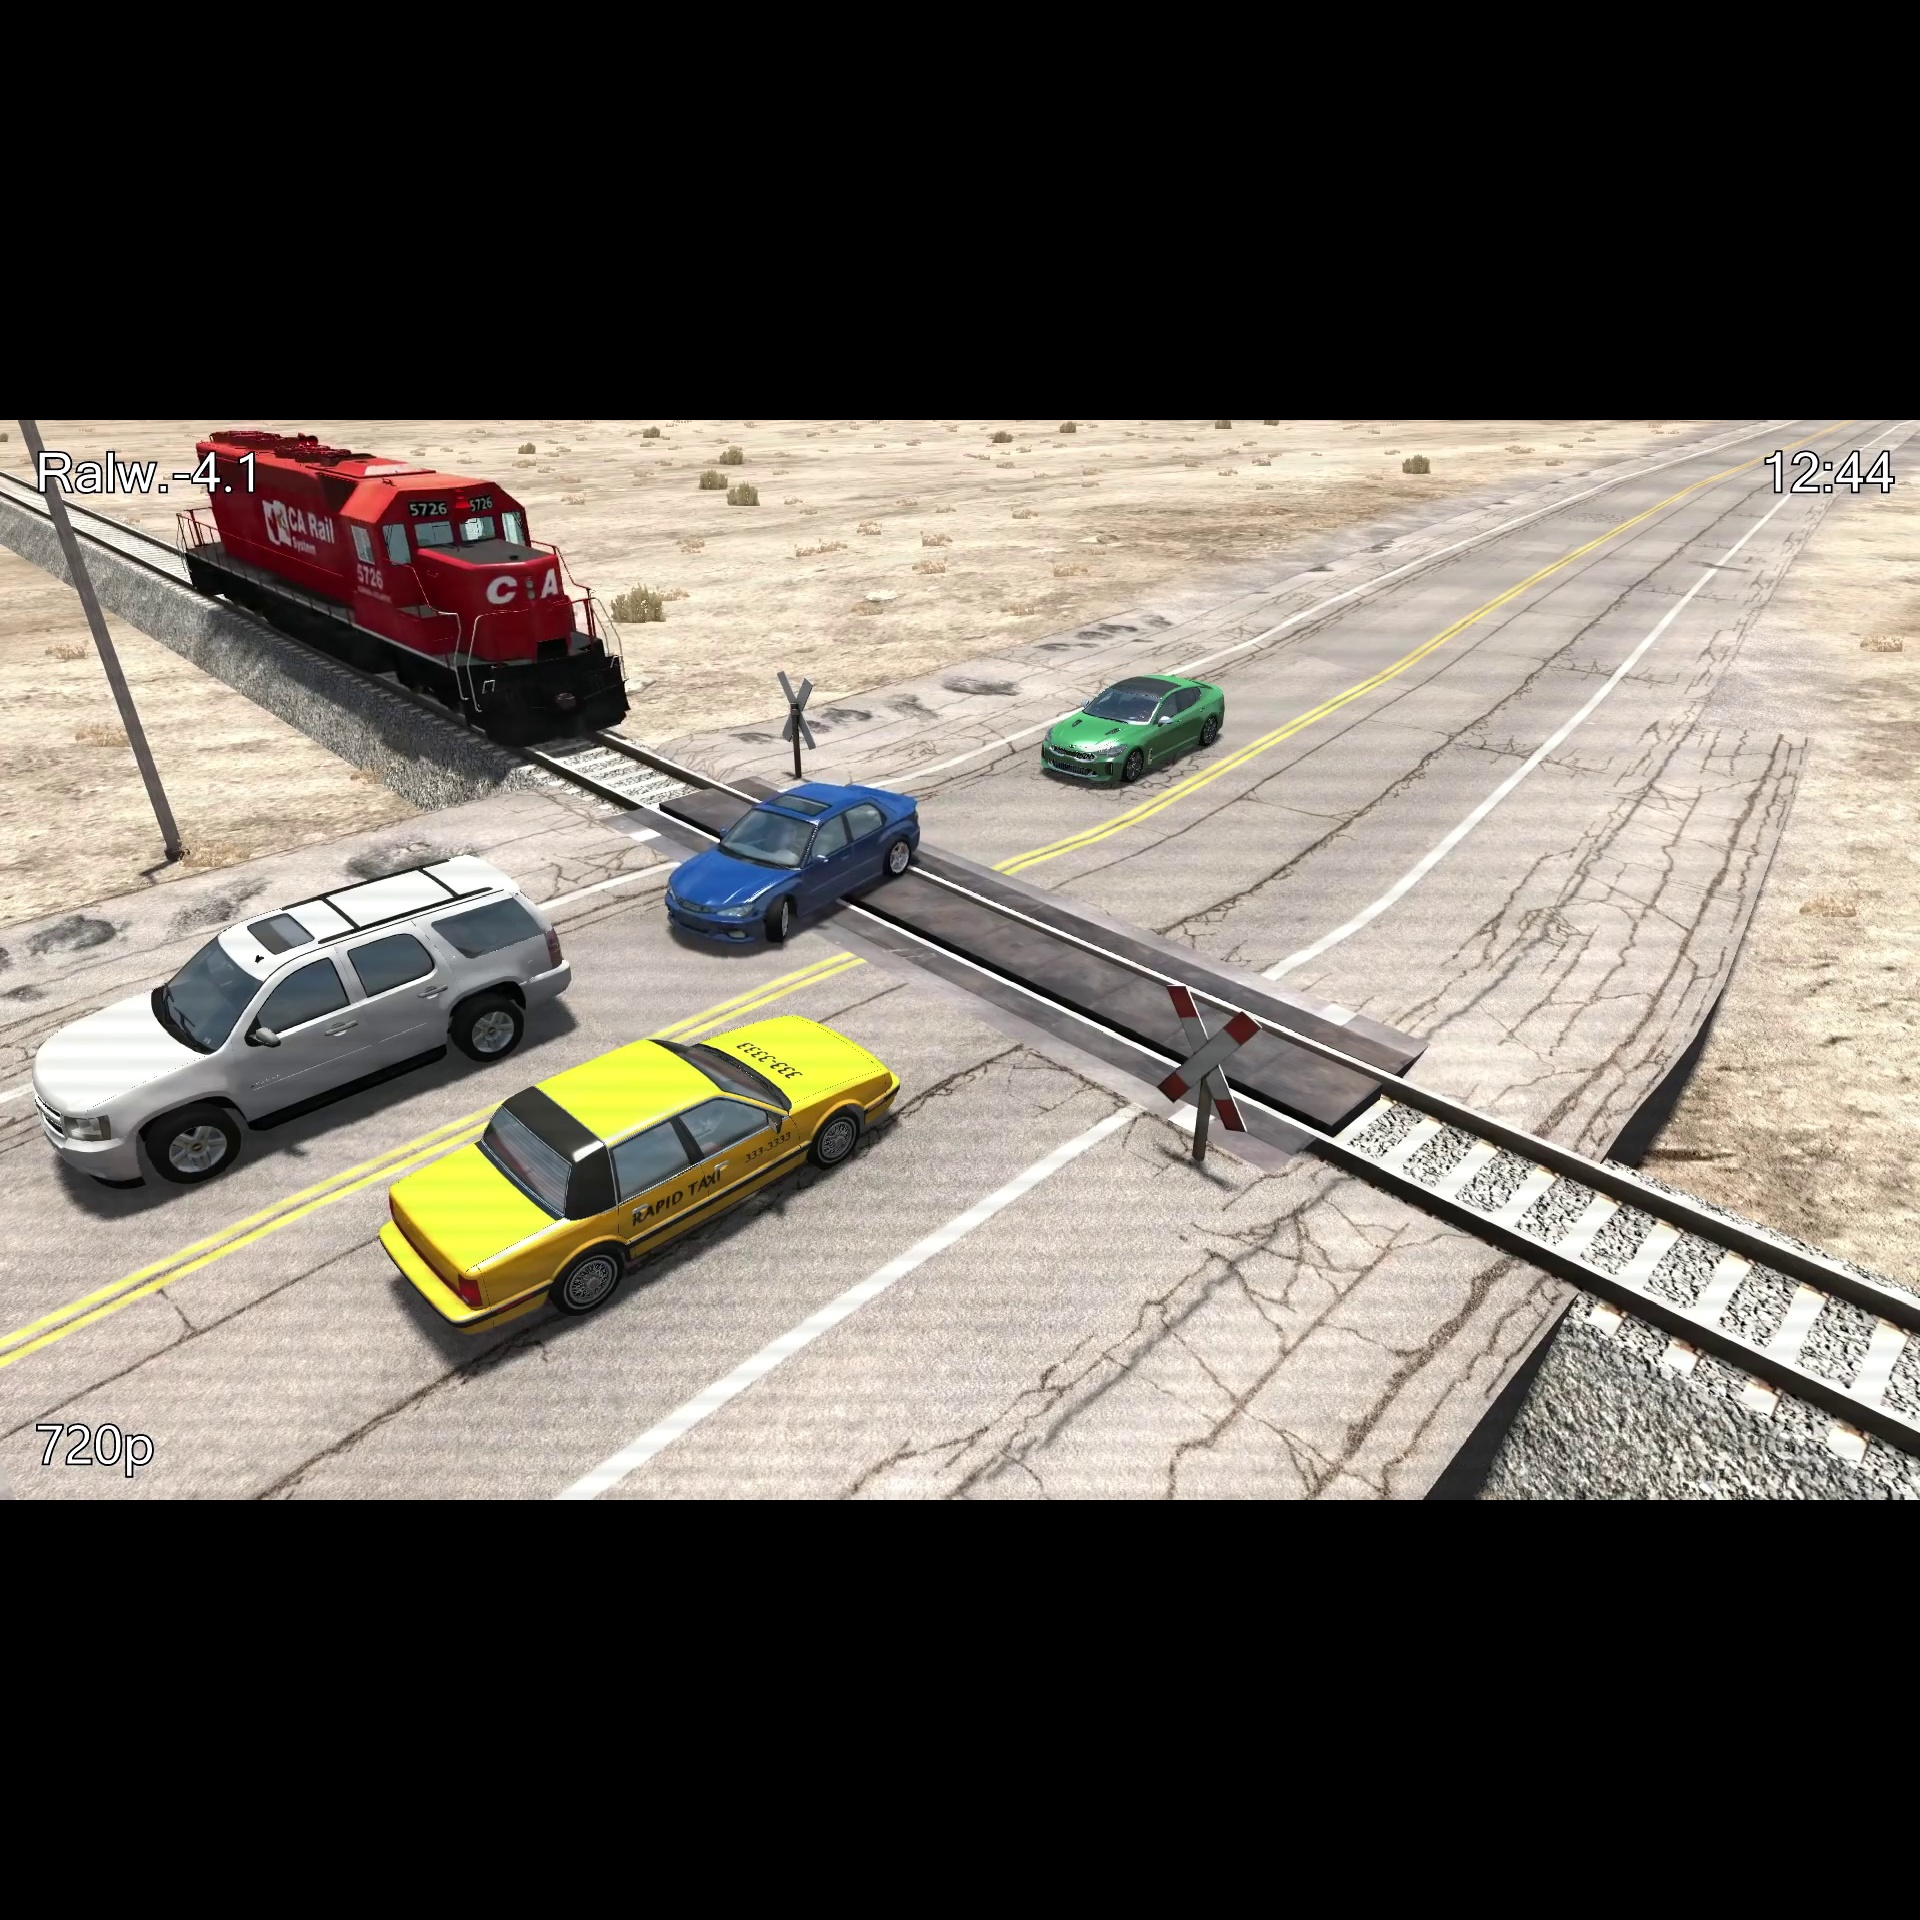vehicle: (19, 846, 577, 1203), (360, 1004, 913, 1350), (171, 418, 636, 756), (658, 777, 928, 960), (1030, 673, 1236, 805)
